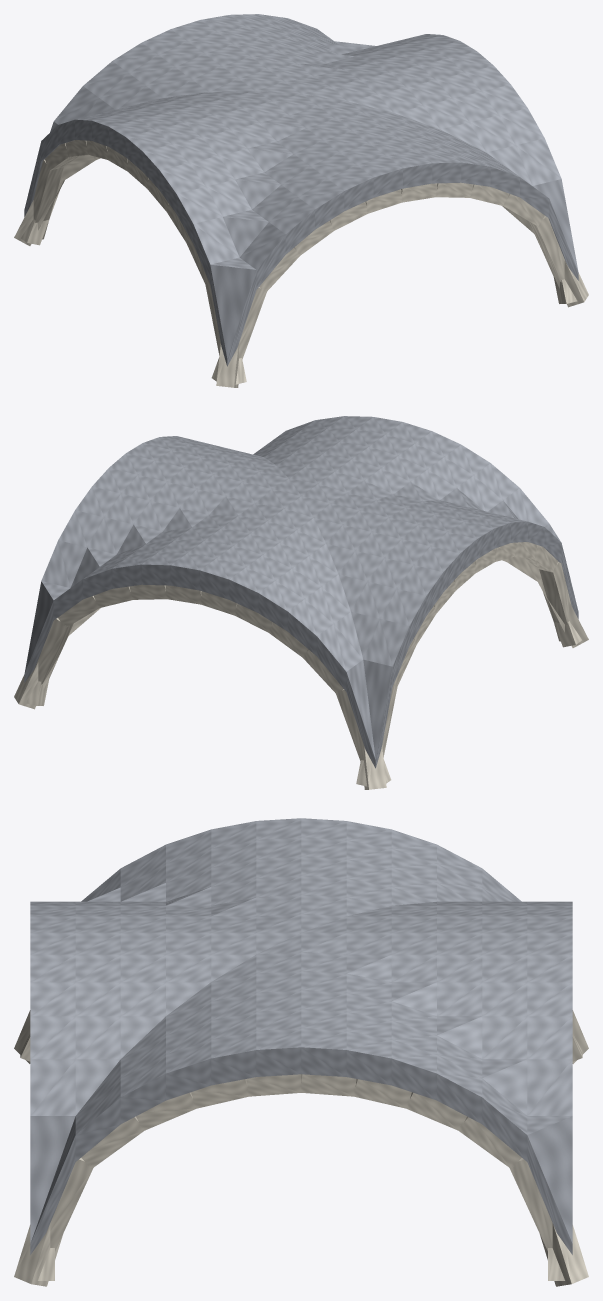
Rendered from vampire-crypt-and-gothic-cathedral-rib-vault-tile-64f922bd__22955.glb.
3 renders of one model, top to bottom at view 1: azimuth 30°, elevation 25°; view 2: azimuth 150°, elevation 25°; view 3: azimuth 270°, elevation 25°, orthographic. The views are drawn at different scales.
Parts seen in each view (by area): view 1: rib-vault-tile; view 2: rib-vault-tile; view 3: rib-vault-tile.
Part boxes in pixels (<box>): rib-vault-tile: <box>14,14,588,387</box>; rib-vault-tile: <box>14,416,588,789</box>; rib-vault-tile: <box>14,818,588,1286</box>.
Size of the model in its own units: 4.24 by 1.95 by 4.24.
3 materials, 2 textured.
